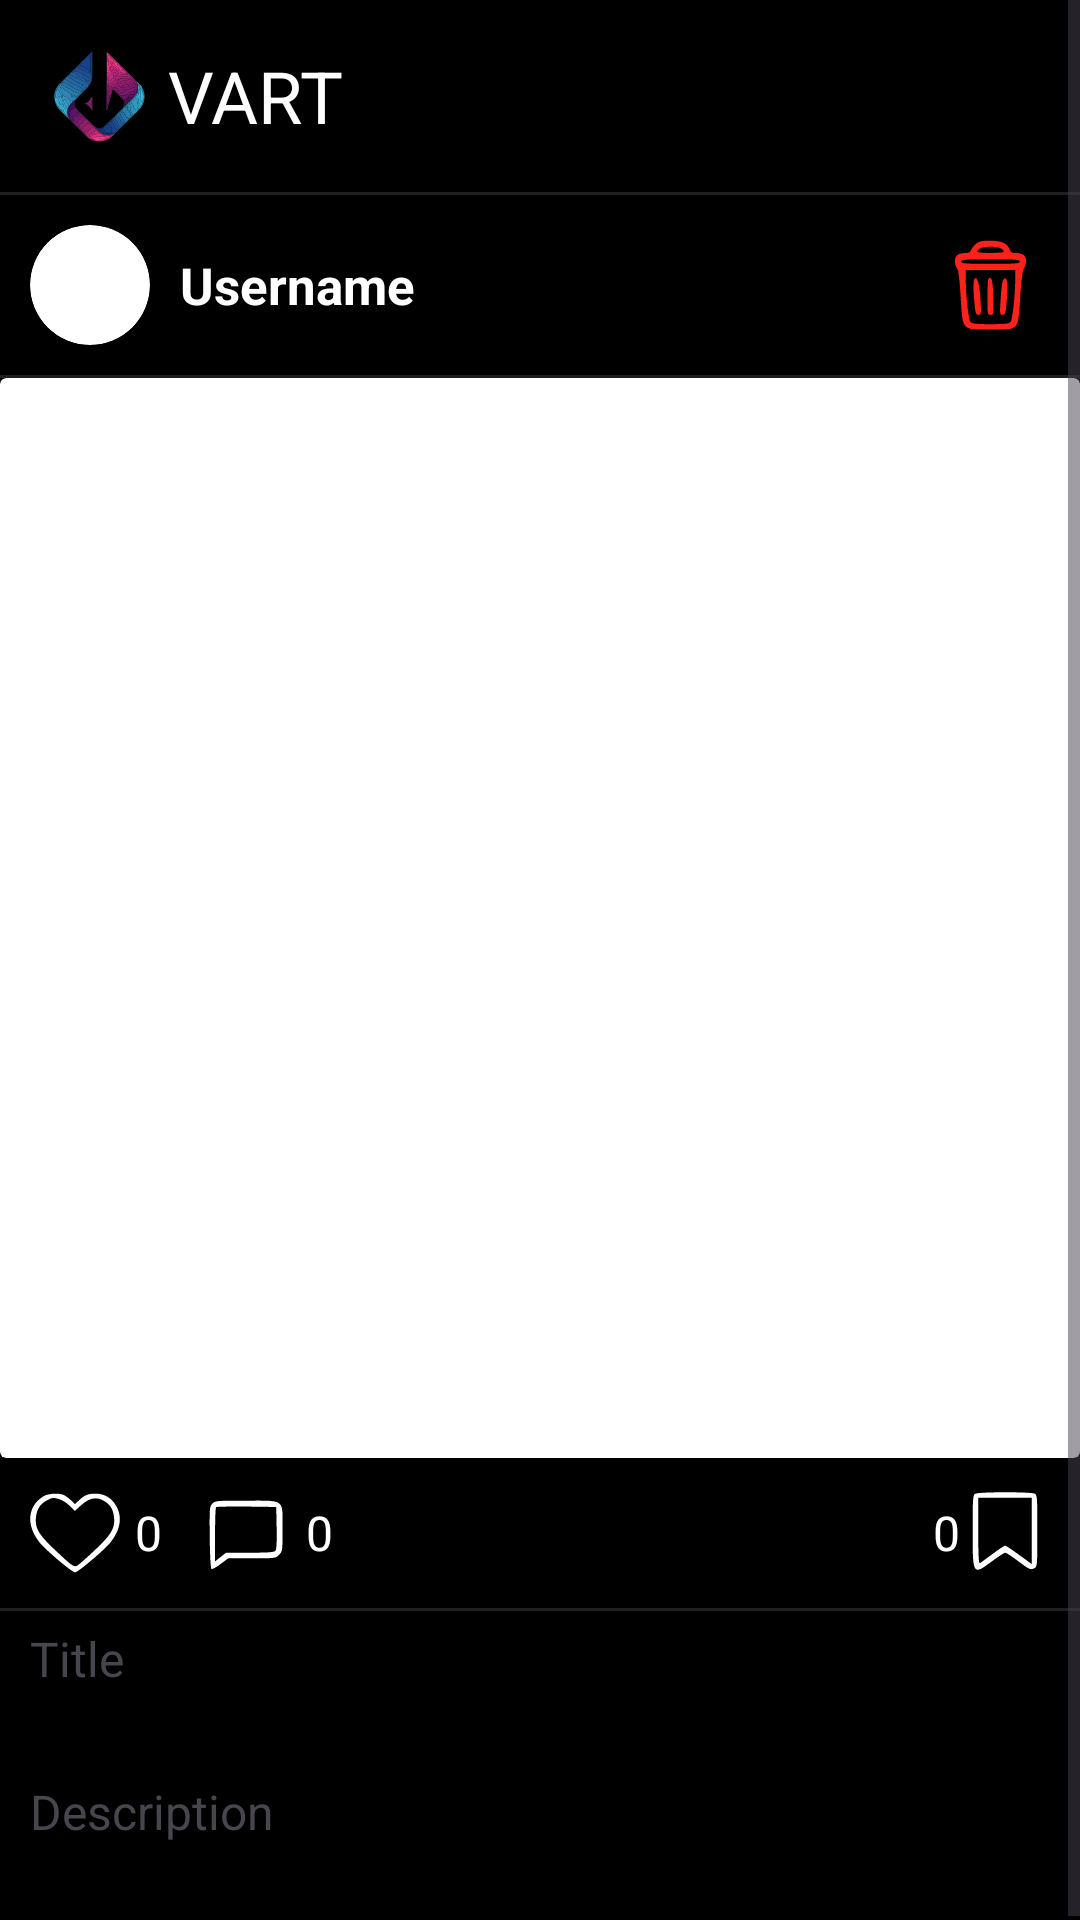

Screen size 1080px x 1920px. Icon name, then its box in pixels as (x1, y1, x2, y2):
bin: (955, 240, 1026, 330)
comment: (209, 1500, 283, 1570)
like: (30, 1493, 120, 1573)
save: (972, 1492, 1038, 1570)
